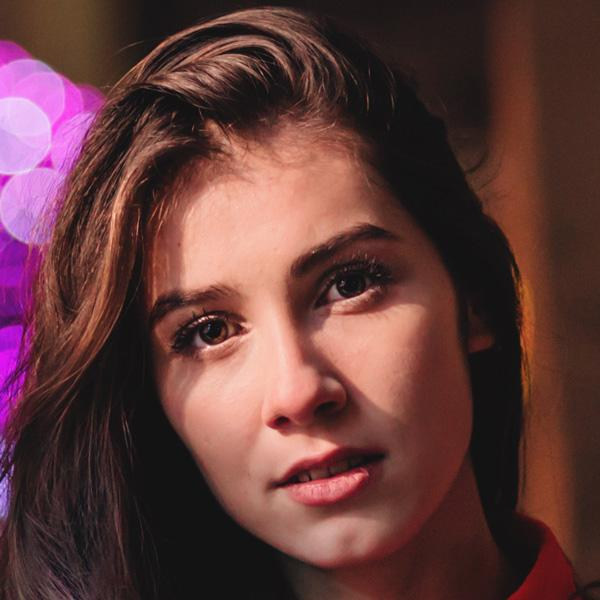Eyes: (308, 251, 399, 322), (169, 306, 256, 365)
